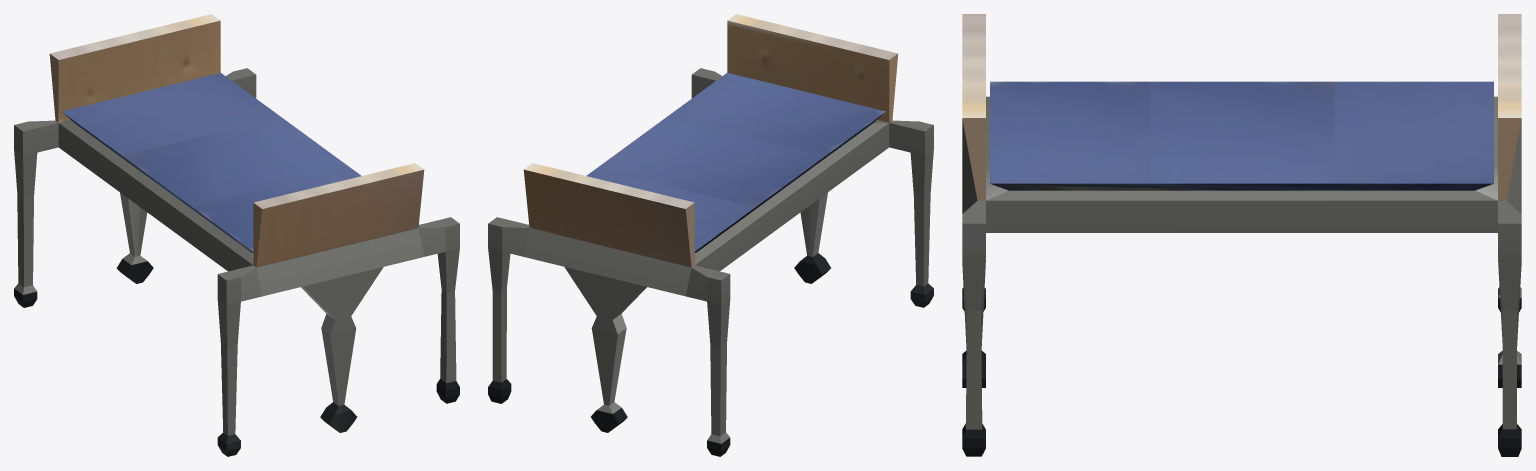
Rendered from Hospital_Bed.fbx.
3 views of the same model, side by side, from view 1: azimuth 30°, elevation 25°; view 2: azimuth 150°, elevation 25°; view 3: azimuth 270°, elevation 25° (orthographic). The views are drawn at different scales.
Parts seen in each view (by area): view 1: Cube; view 2: Cube; view 3: Cube.
Boxes of the visible parts, x1,y1,x2,y2 form: Cube: [14, 14, 459, 456]; Cube: [488, 14, 933, 456]; Cube: [962, 14, 1521, 456].
Size of the model in its own units: 486 by 484 by 767.
